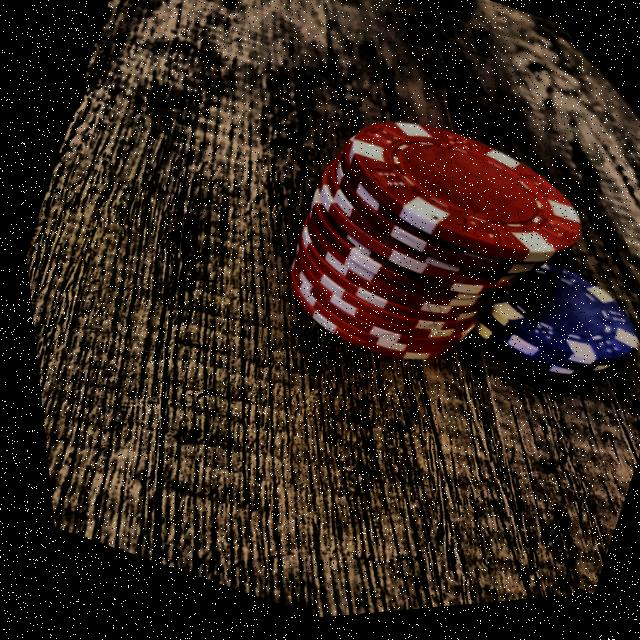Chip: (242, 82, 613, 433), (432, 230, 640, 423)
